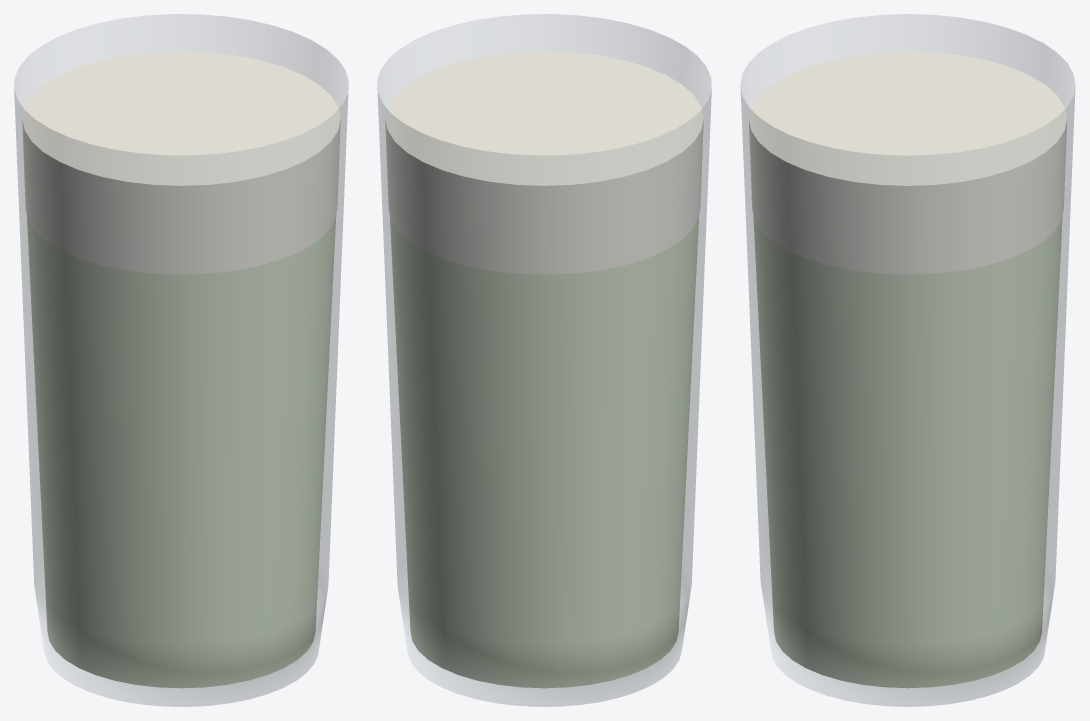
File: bebida-4-card.glb
3 renders of one model, left to right at view 1: azimuth 30°, elevation 25°; view 2: azimuth 150°, elevation 25°; view 3: azimuth 270°, elevation 25°, orthographic.
Size of the model in its own units: 0.07 by 0.13 by 0.07.
